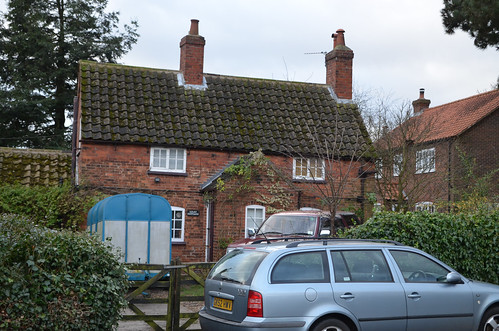building: (76, 63, 376, 255), (377, 87, 498, 211)
car: (215, 245, 499, 331)
gate: (117, 255, 215, 331)
sky: (146, 1, 448, 68)
tree: (1, 1, 135, 142)
